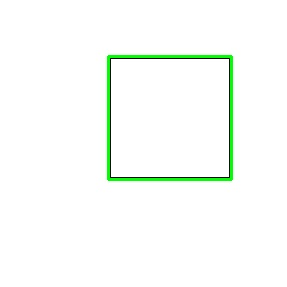line_segment: (107, 55, 233, 181)
